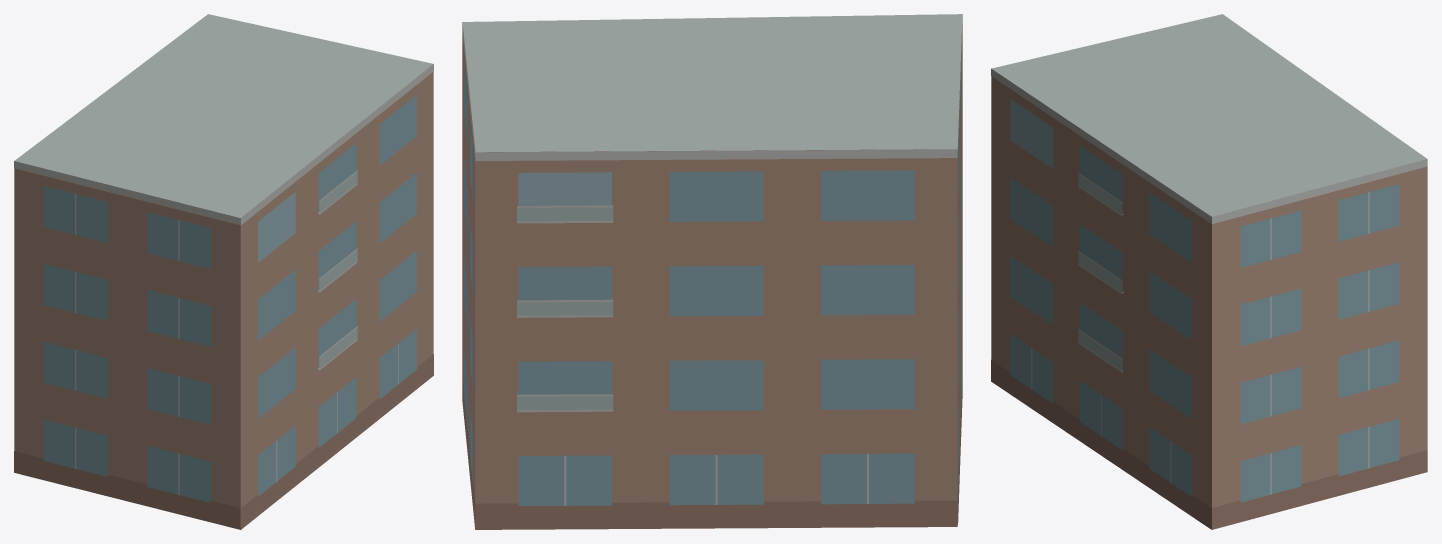
Rendered from survey-upis-32751148.glb.
3 renders of one model, left to right at view 1: azimuth 30°, elevation 25°; view 2: azimuth 150°, elevation 25°; view 3: azimuth 270°, elevation 25°, orthographic. The views are drawn at different scales.
Parts seen in each view (by area): view 1: survey-upis-32751148.tmp; view 2: survey-upis-32751148.tmp; view 3: survey-upis-32751148.tmp.
Boxes of the visible parts, bbox=[...] form: survey-upis-32751148.tmp: bbox=[14, 14, 433, 529]; survey-upis-32751148.tmp: bbox=[462, 14, 962, 529]; survey-upis-32751148.tmp: bbox=[991, 14, 1427, 529].
Size of the model in its own units: 14.44 by 10.38 by 13.13.
